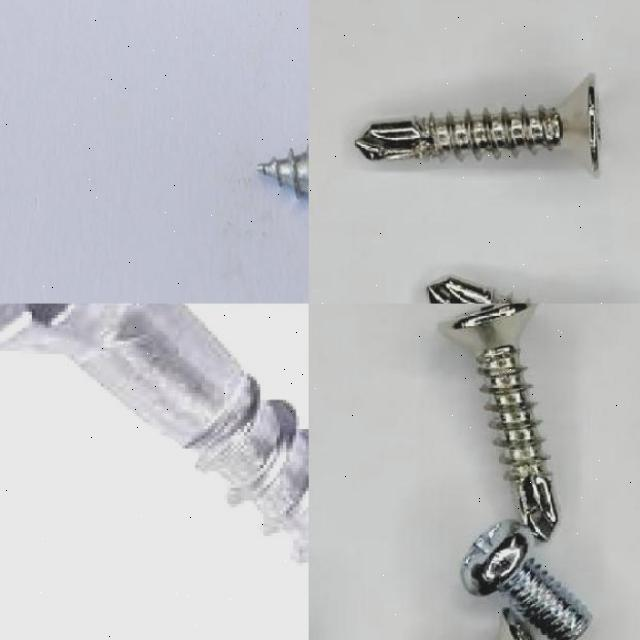Screw: (0, 304, 309, 568), (440, 304, 559, 540), (355, 73, 601, 173), (461, 522, 593, 640)
